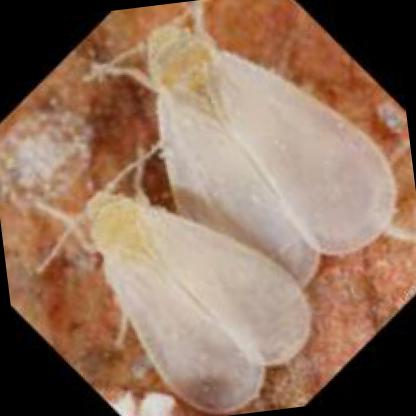whitefly: (147, 21, 396, 286), (83, 189, 313, 411)
